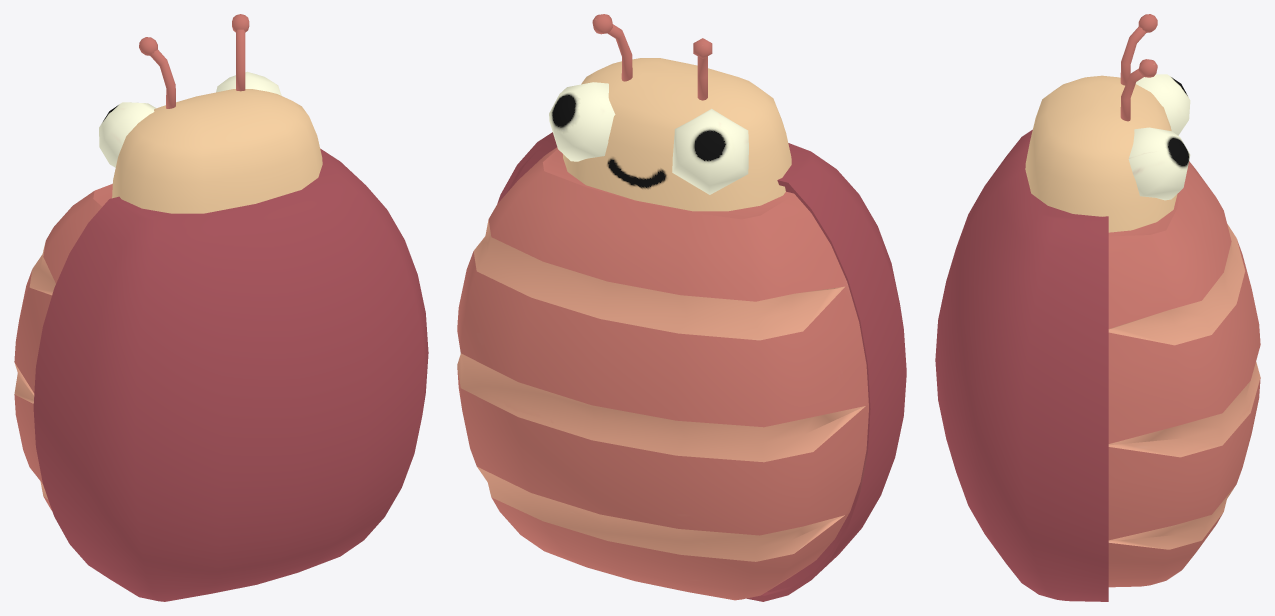
Rendered from DrillBug.glb.
3 views of the same model, side by side, from view 1: azimuth 30°, elevation 25°; view 2: azimuth 150°, elevation 25°; view 3: azimuth 270°, elevation 25° (orthographic). The views are drawn at different scales.
Parts seen in each view (by area): view 1: Body, Head.001, Eyes, Cylinder; view 2: Body, Head.001, Eyes, Cylinder; view 3: Body, Head.001, Eyes, Cylinder.
Boxes of the visible parts, left/top/right/bottom form: Body: left=14, top=148, right=428, bottom=601; Head.001: left=112, top=89, right=322, bottom=213; Eyes: left=99, top=71, right=281, bottom=167; Cylinder: left=139, top=14, right=249, bottom=108; Body: left=457, top=132, right=906, bottom=601; Head.001: left=563, top=58, right=791, bottom=211; Eyes: left=549, top=82, right=748, bottom=194; Cylinder: left=592, top=14, right=712, bottom=100; Body: left=935, top=129, right=1260, bottom=601; Head.001: left=1025, top=75, right=1177, bottom=232; Eyes: left=1128, top=74, right=1190, bottom=200; Cylinder: left=1120, top=14, right=1157, bottom=121.
Bounding box in the file's own units: 4.15 × 5.8 × 3.23.
1 material, 1 textured.
